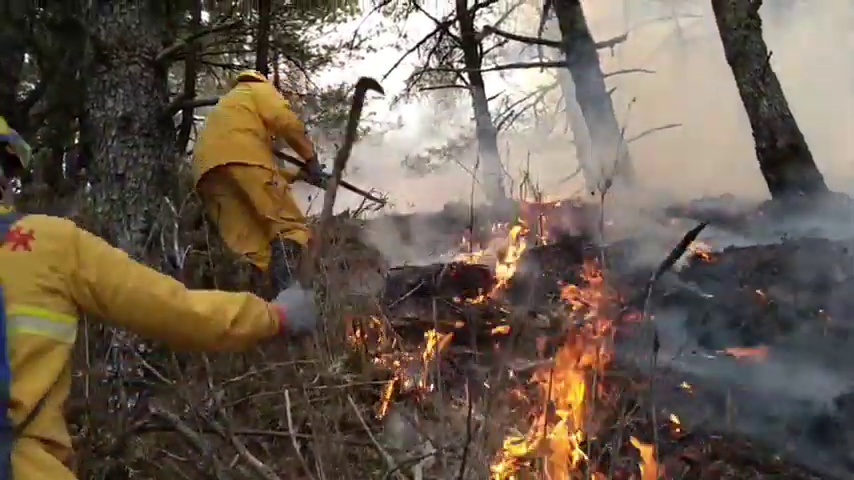fire: (506, 354, 585, 480), (495, 222, 524, 284), (566, 270, 601, 315), (635, 437, 657, 480), (425, 327, 438, 357), (382, 382, 393, 400)
